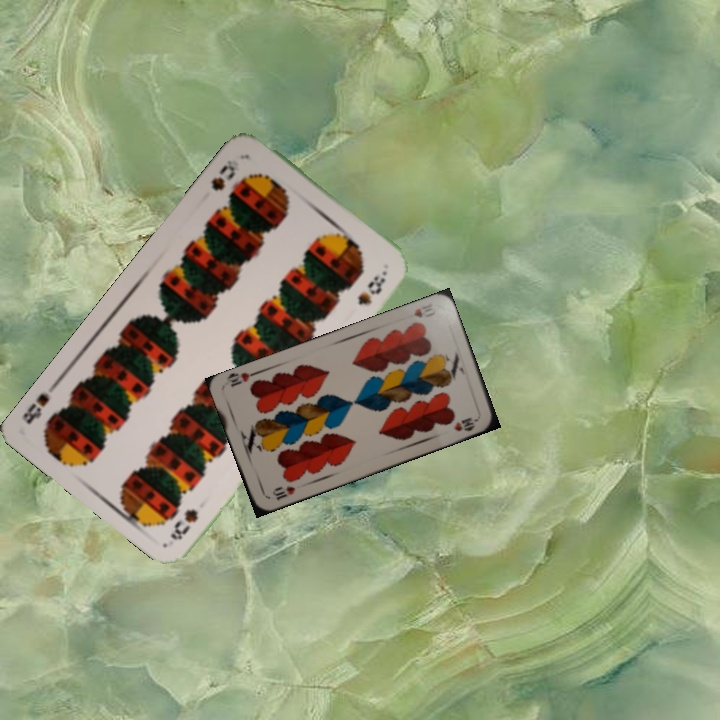H10: (268, 482, 298, 503), (410, 300, 435, 320)
S8: (166, 504, 201, 543), (206, 155, 239, 194)
